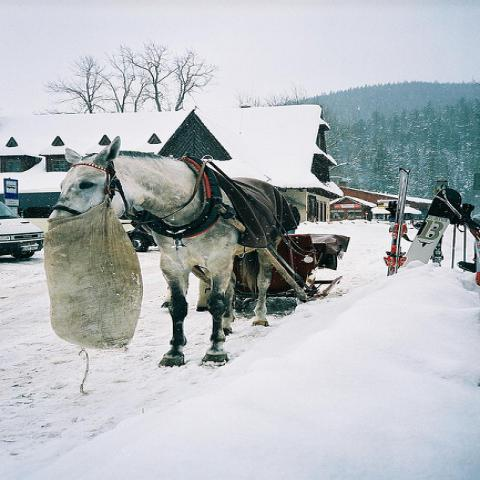car: (1, 202, 45, 261)
